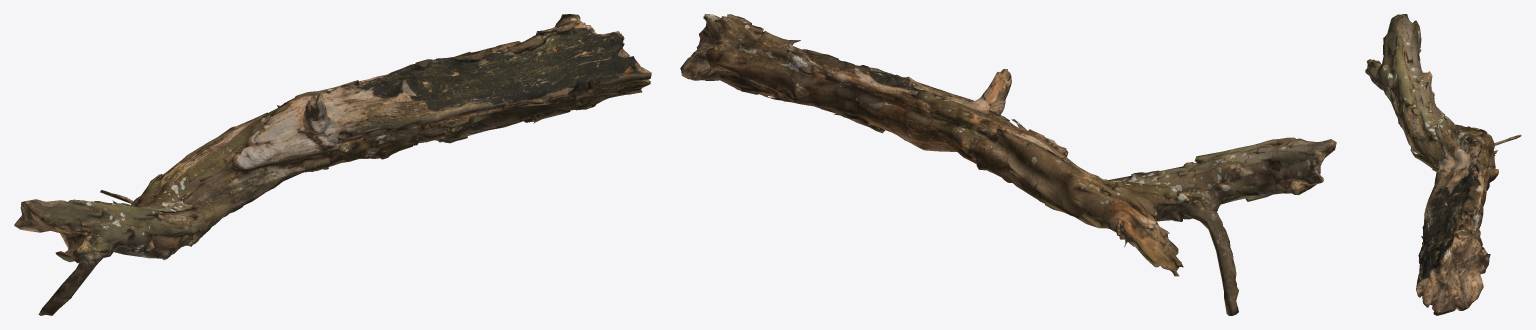
File: dead_tree_trunk_02.glb
The picture shows the model from 3 angles, left to right: view 1: azimuth 30°, elevation 25°; view 2: azimuth 150°, elevation 25°; view 3: azimuth 270°, elevation 25°; orthographic projection. The views are drawn at different scales.
Parts seen in each view (by area): view 1: dead_tree_trunk_02; view 2: dead_tree_trunk_02; view 3: dead_tree_trunk_02.
Part boxes in pixels (x1,y1,x2,y2): dead_tree_trunk_02: (14, 14, 651, 315); dead_tree_trunk_02: (680, 14, 1336, 315); dead_tree_trunk_02: (1365, 14, 1521, 315).
Size of the model in its own units: 4.05 by 1.05 by 1.05.
Materials: 1 (1 with a texture image).
